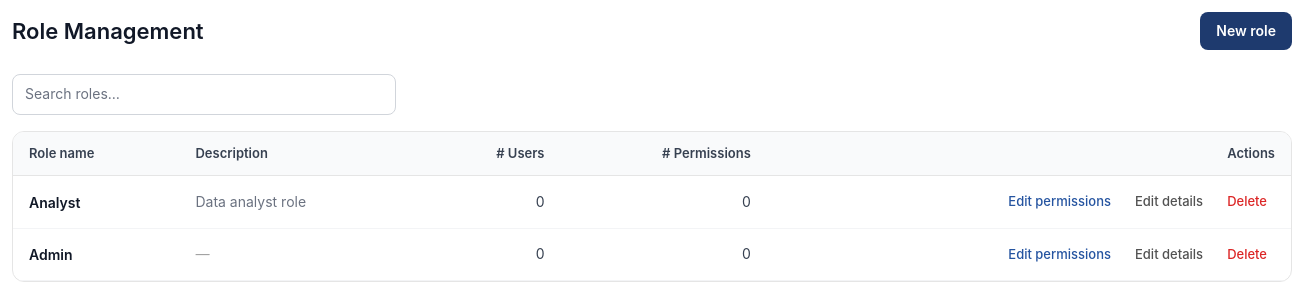
Test: RolesPage — search/filter › filters roles by name
Expected: the text "Analyst" is shown, top-left (29, 194), bottom-right (80, 211)
Type "Analyst" into the search field at (204, 95), box top-left (12, 74), bottom-right (396, 115)
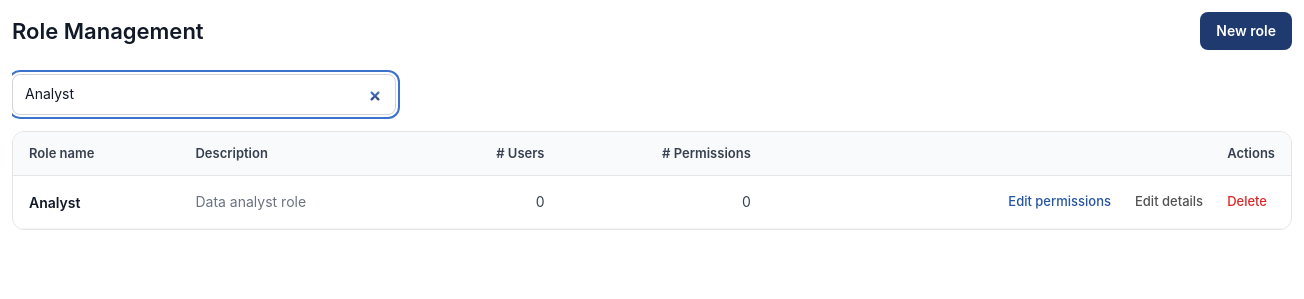
Expected: the text "Analyst" is shown, top-left (29, 194), bottom-right (80, 211)
Expected: the text "Admin" is gone
